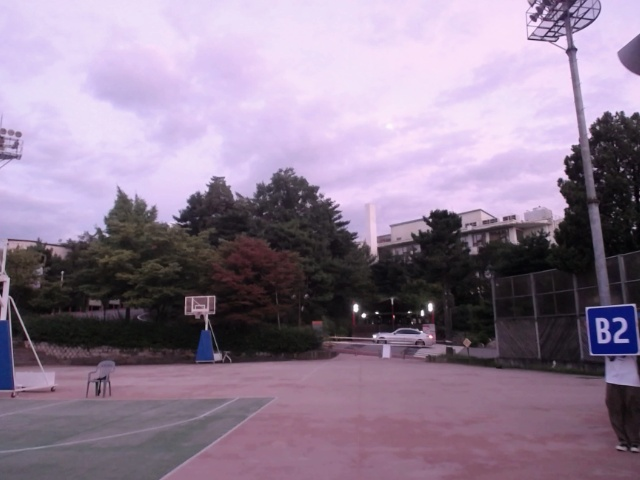delivery_b2: (585, 304, 638, 357)
